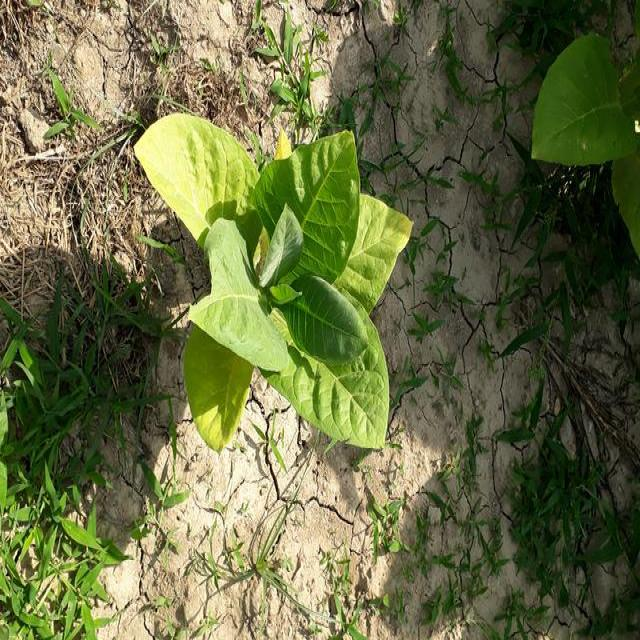crop: (126, 104, 410, 461)
